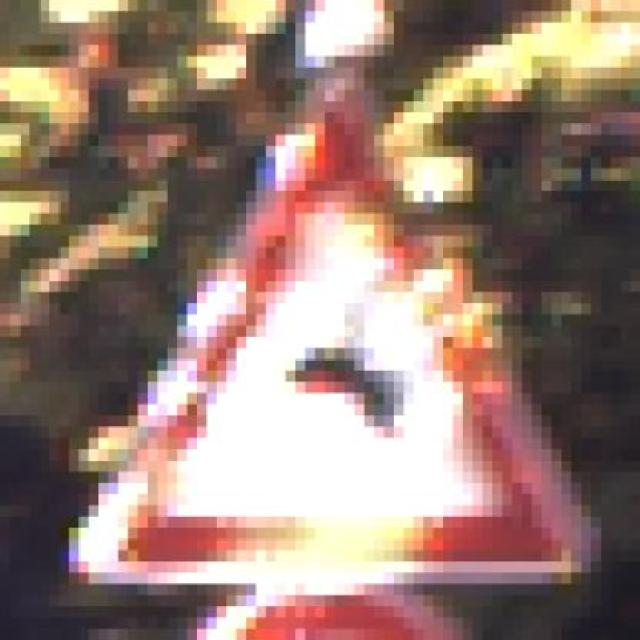Dangerous Left Curve Ahead: (73, 55, 595, 596)
